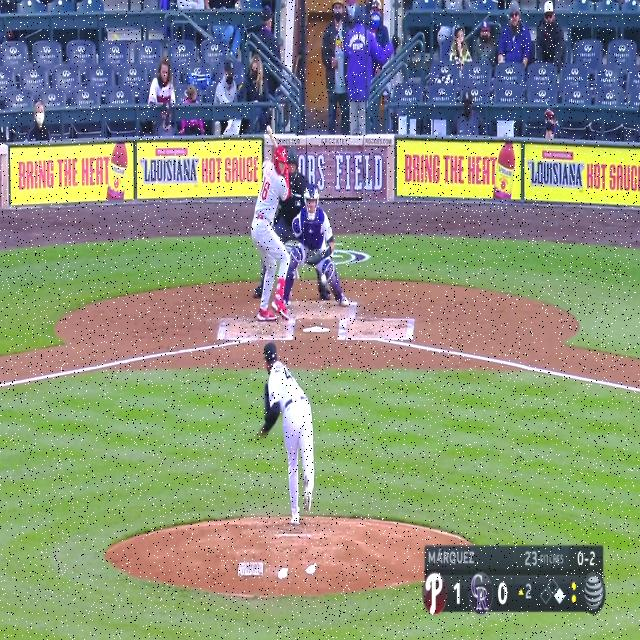baseball: (320, 272, 328, 286)
